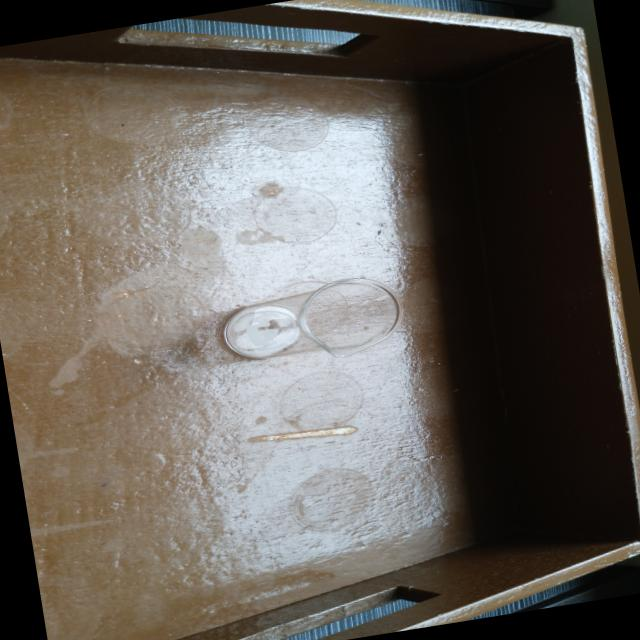beaker: (207, 270, 410, 380)
